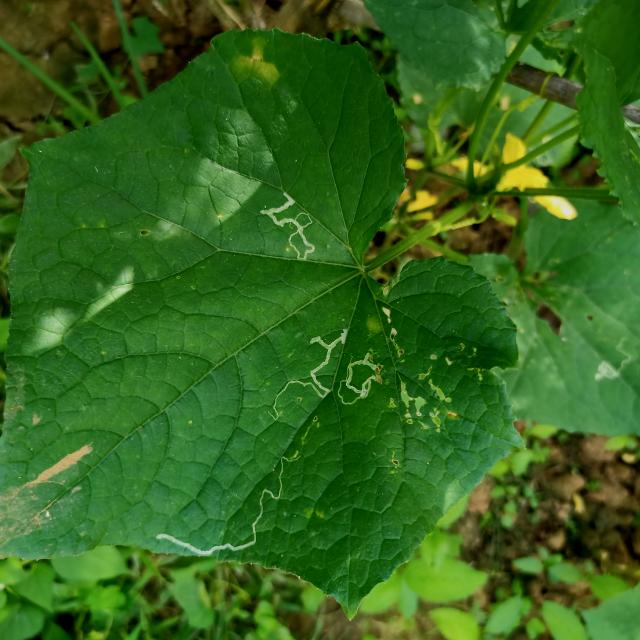disease_cucumber: (232, 32, 280, 82)
